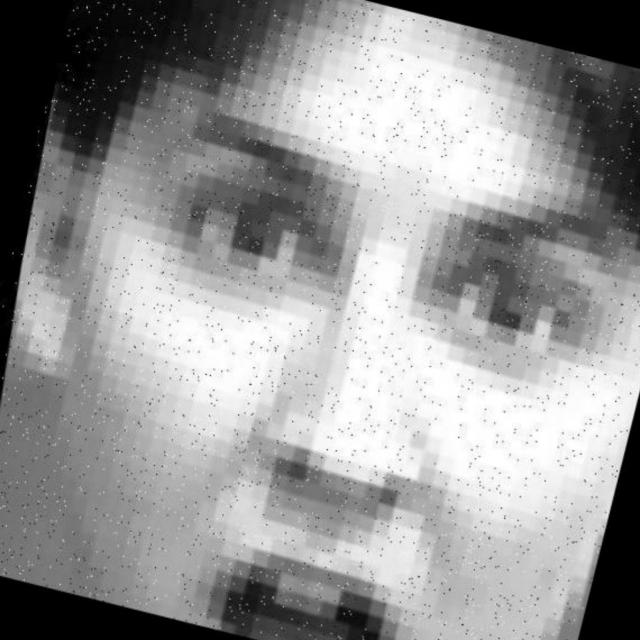Surprised: (20, 74, 639, 640)
